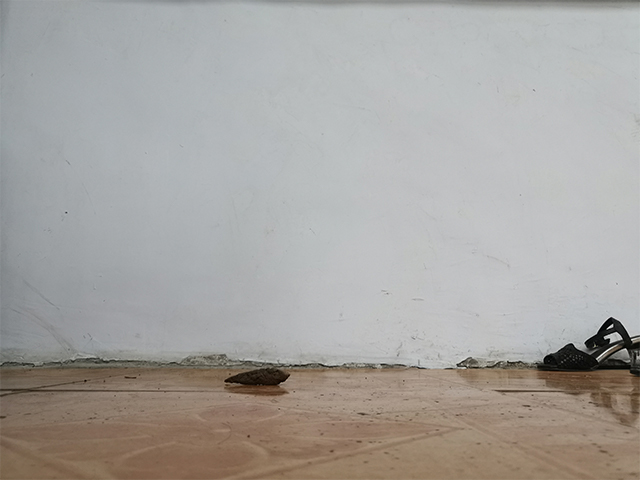feces: (222, 365, 294, 387)
